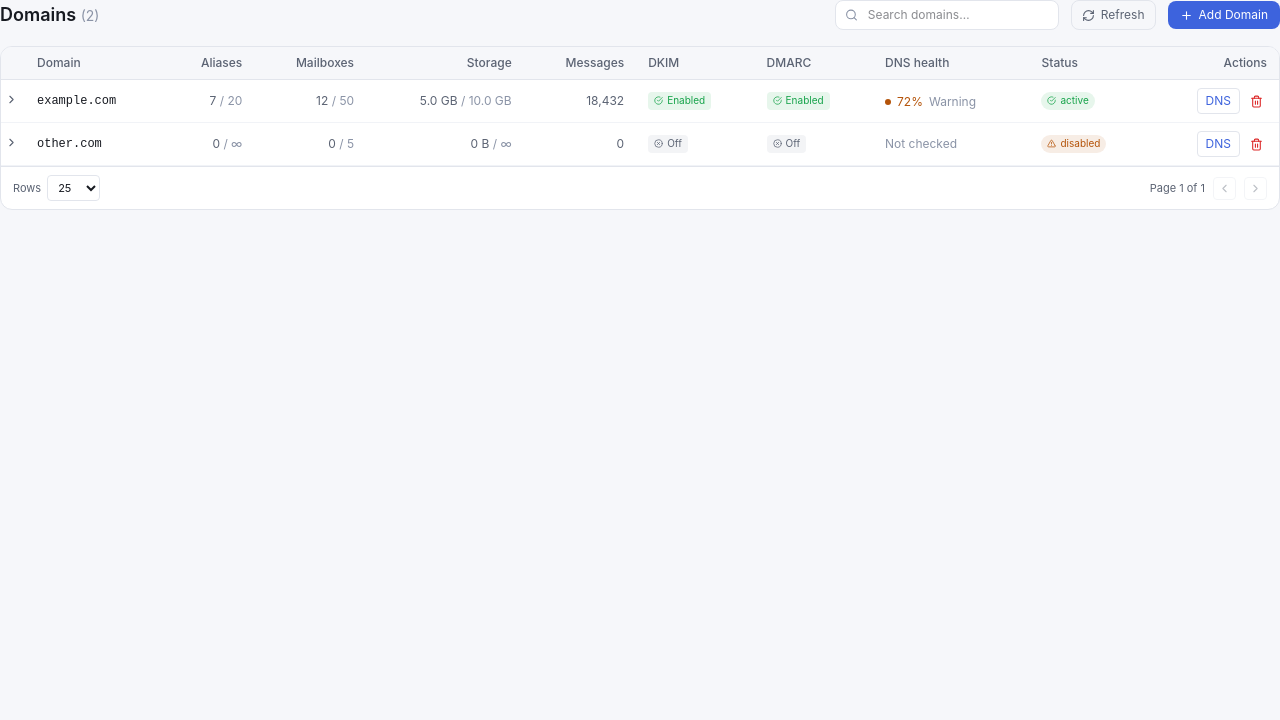
it: DNS records modal › renders the full expanded record inventory with required, current, status, reason and guidance
The image size is (1280, 720).
Expected: the text "example.com" is shown, [25,80,165,122]
Click the button "DNS" in the row of "example.com".
click(1218, 101)  # box [1197,88,1240,114]
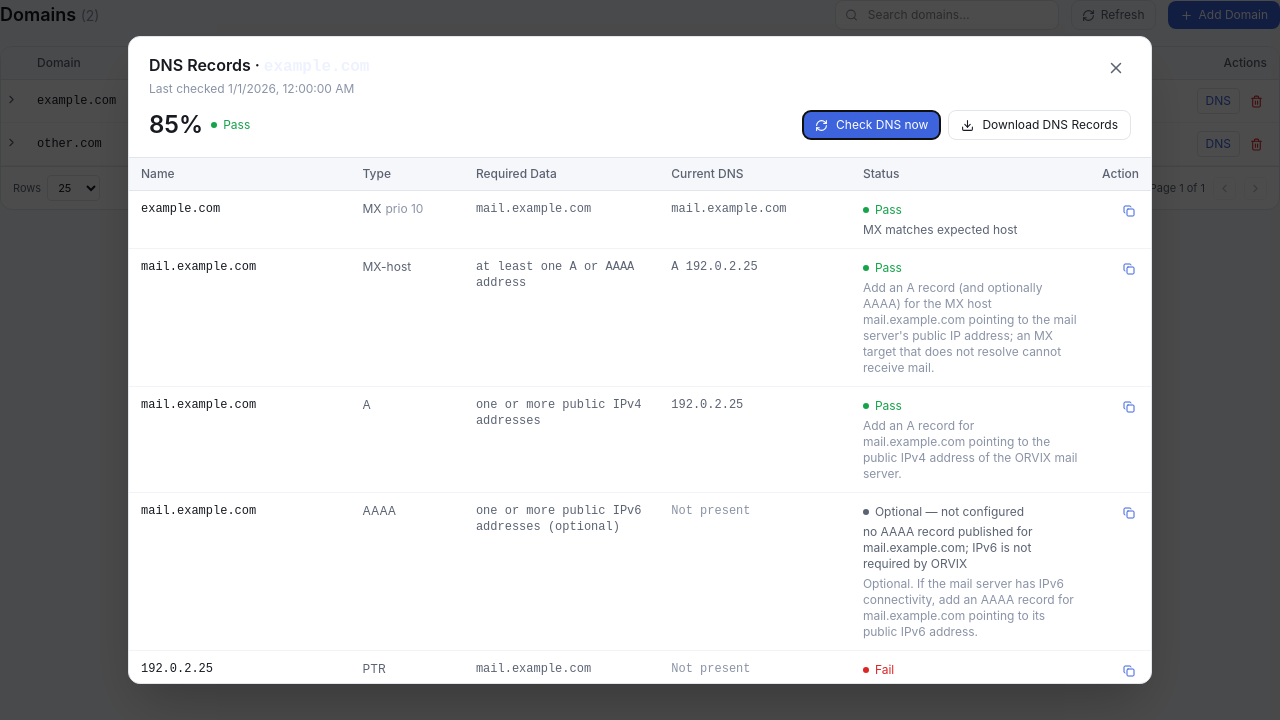
Result: the dialog is shown
Result: the row with test id "dns-row-mx" is shown at [129,190,1151,248]
Result: the row with test id "dns-row-mail-host-a" is shown at [129,386,1151,492]
